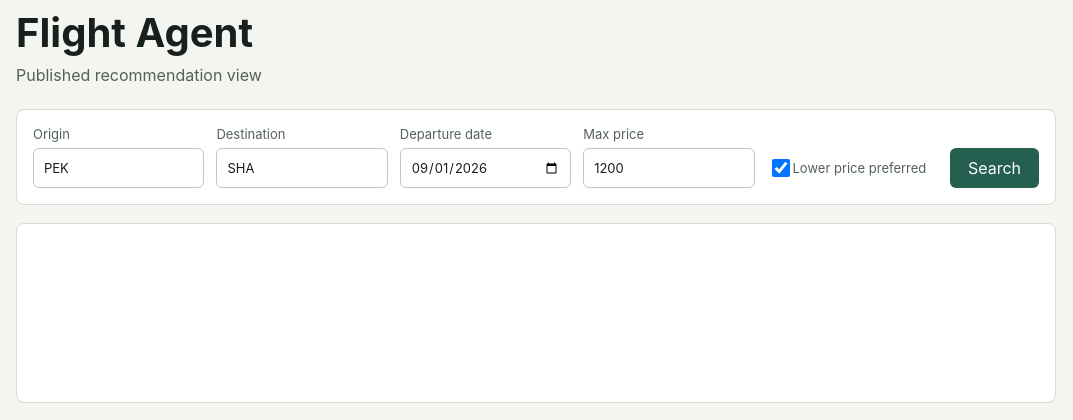
Test: App › renders backend outcome SEARCH_EMPTY without a fake publication
Click the button "Search" at (994, 168), box [950,148,1039,188]
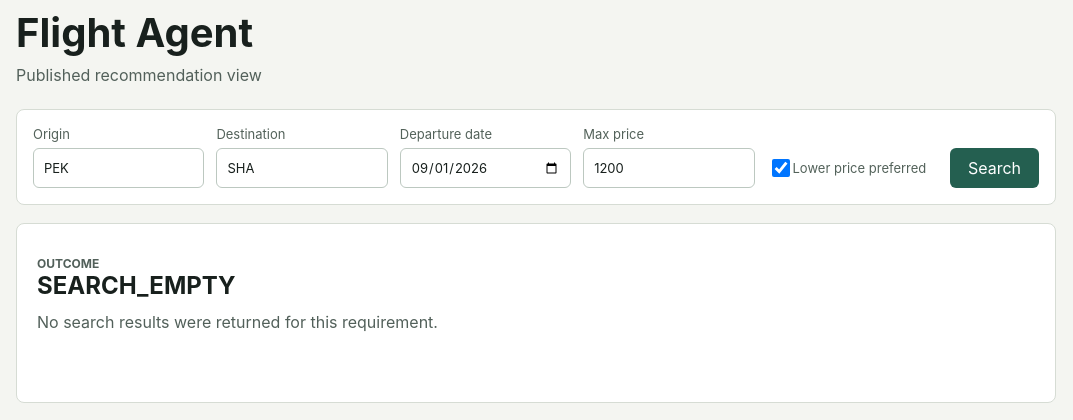
Expected: the heading "SEARCH_EMPTY" is shown, [37,271,236,300]
Expected: the text "No search results were returned for this requirement." is shown, [37,312,438,332]
